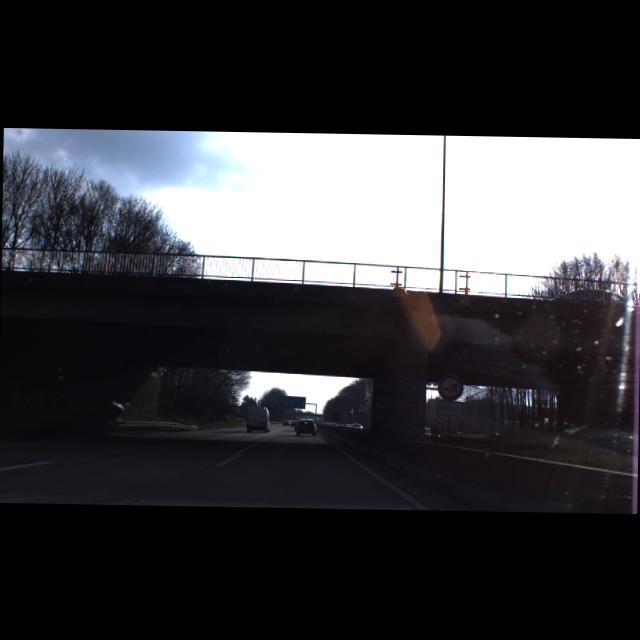prohibitory: (438, 373, 464, 400)
